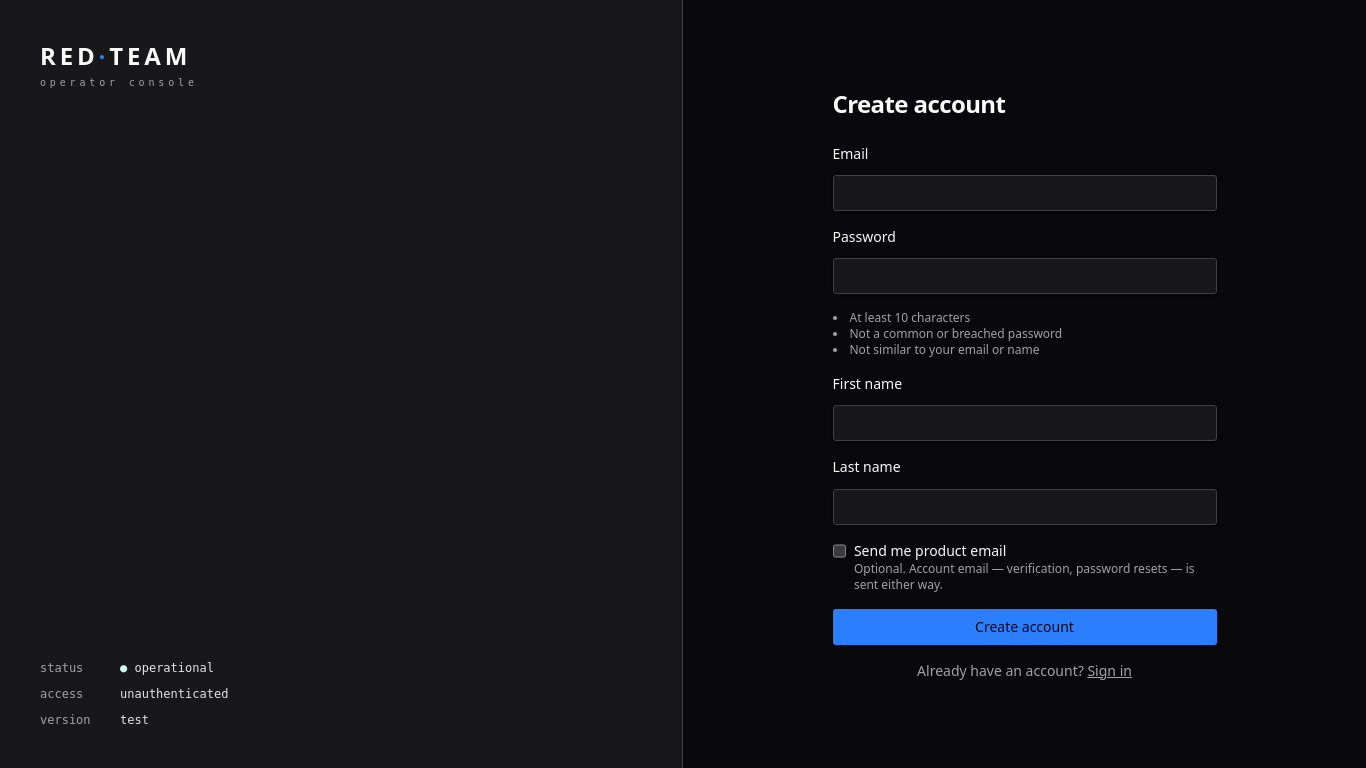
Scenario: RegisterPage › blocks submit and shows an error for an empty password
Type "test@example.com" into the field labelled "Email" at point(1024, 193), box [832, 175, 1216, 211]
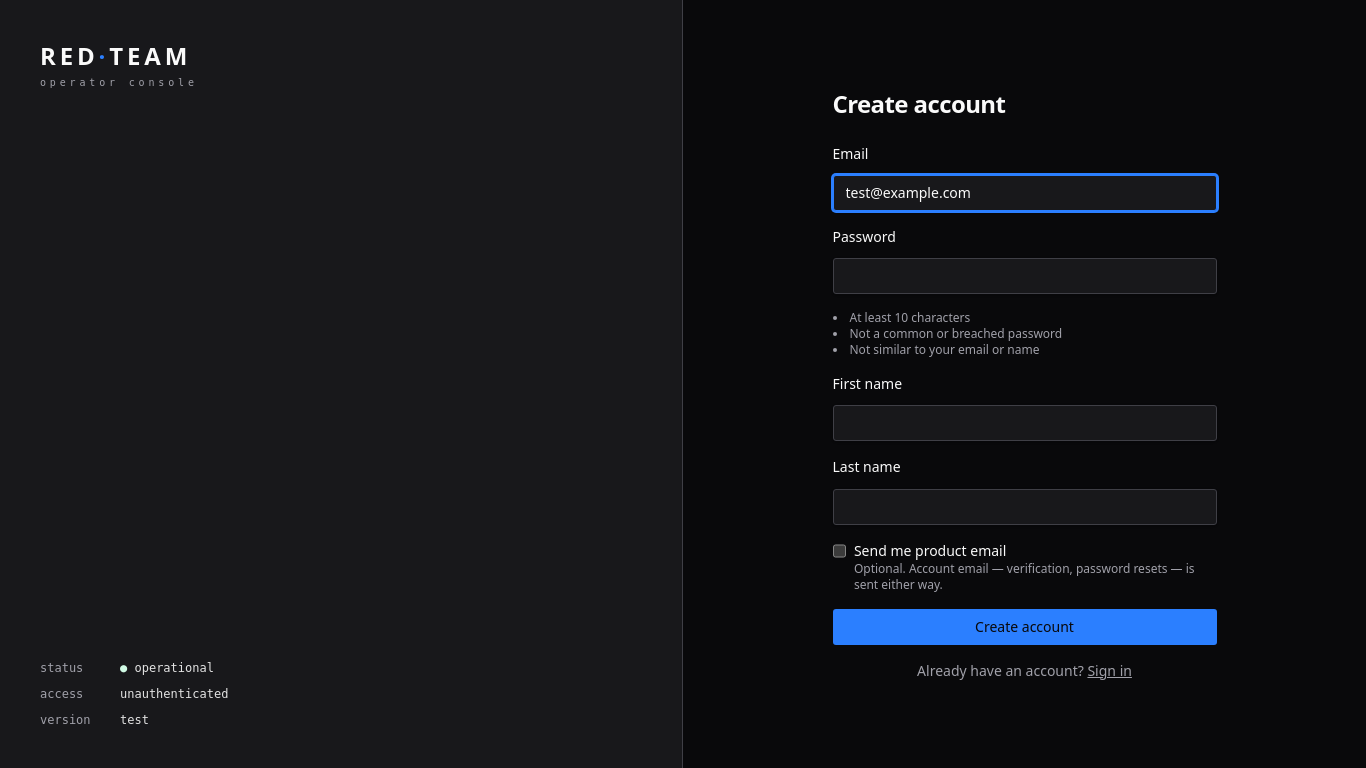
Expected: the list named "Password requirements" shows "At least 10 characters", [850, 309, 970, 326]
Click the button "Create account" at point(1024, 626), box [832, 608, 1216, 644]
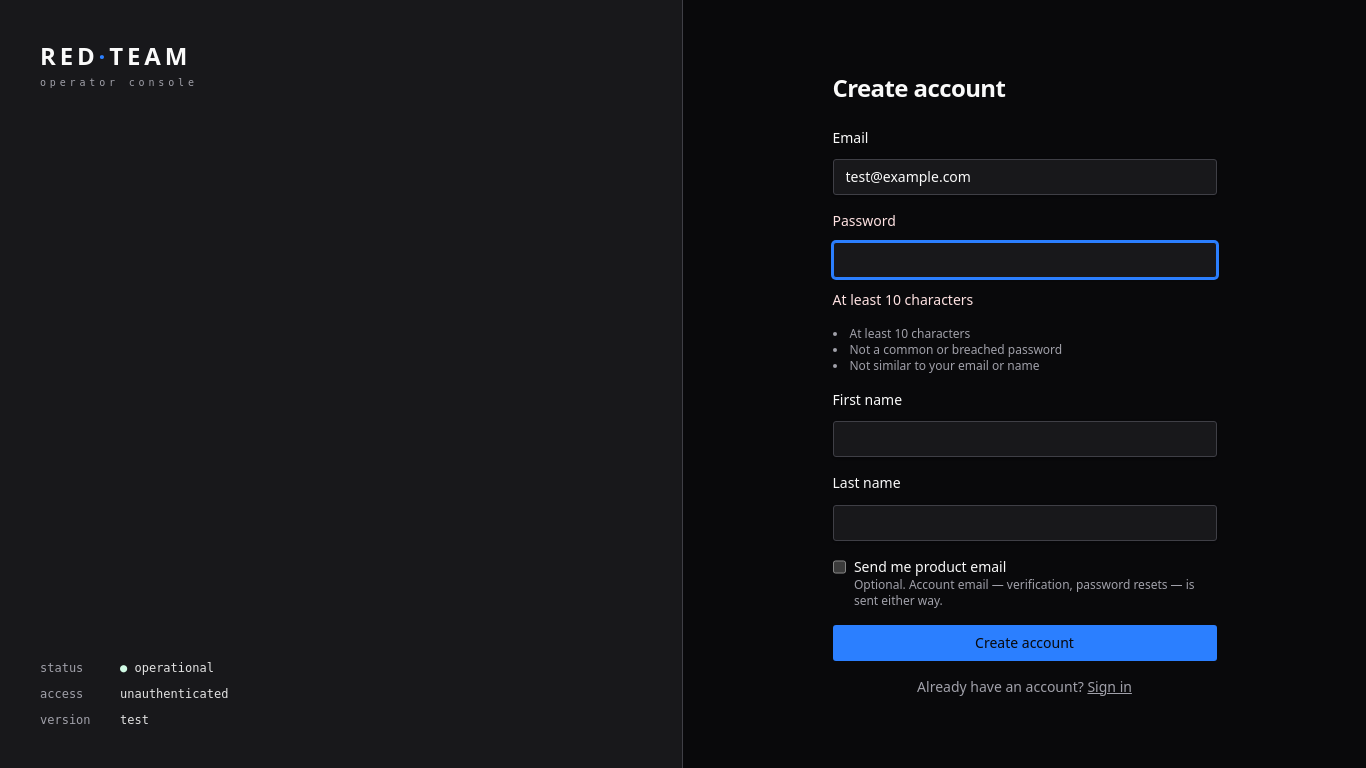
Expected: the message "At least 10 characters" is shown, [832, 290, 973, 309]
